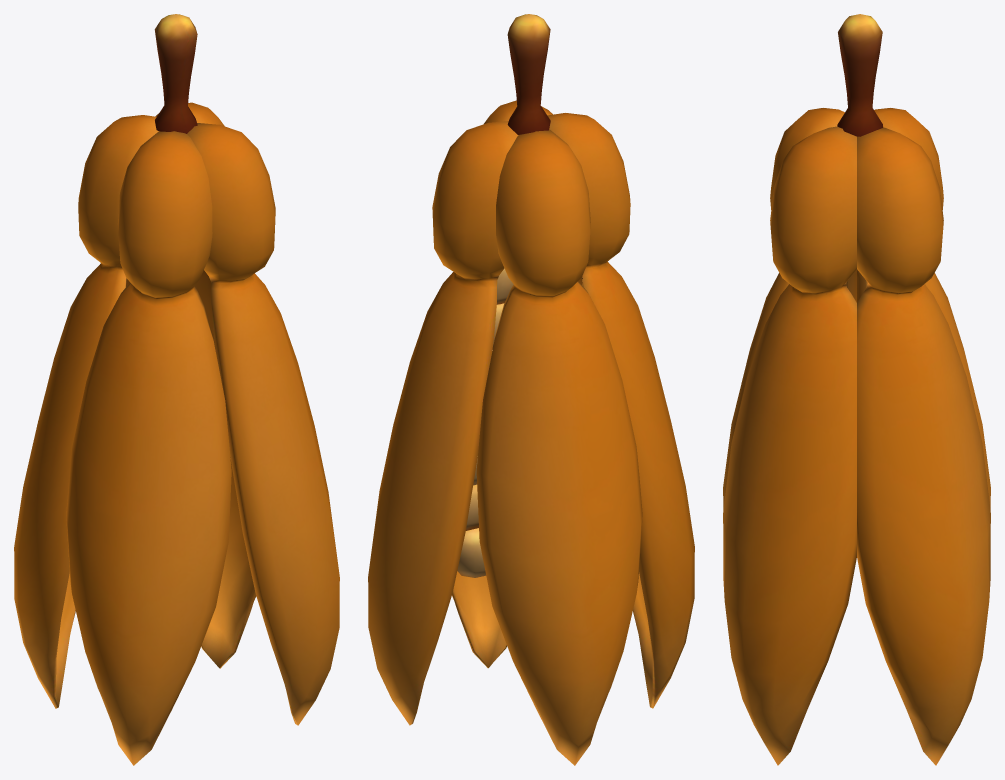
Rendered from Squid_Squash_dream.glb.
3 views of the same model, side by side, from view 1: azimuth 30°, elevation 25°; view 2: azimuth 150°, elevation 25°; view 3: azimuth 270°, elevation 25° (orthographic).
Parts seen in each view (by area): view 1: Squid_Squash; view 2: Squid_Squash; view 3: Squid_Squash.
Part boxes in pixels (<box>): Squid_Squash: <box>14,14,339,765</box>; Squid_Squash: <box>368,14,694,765</box>; Squid_Squash: <box>723,14,990,765</box>.
Size of the model in its own units: 0.8972 by 2.46 by 0.8388.
1 material, 1 textured.
